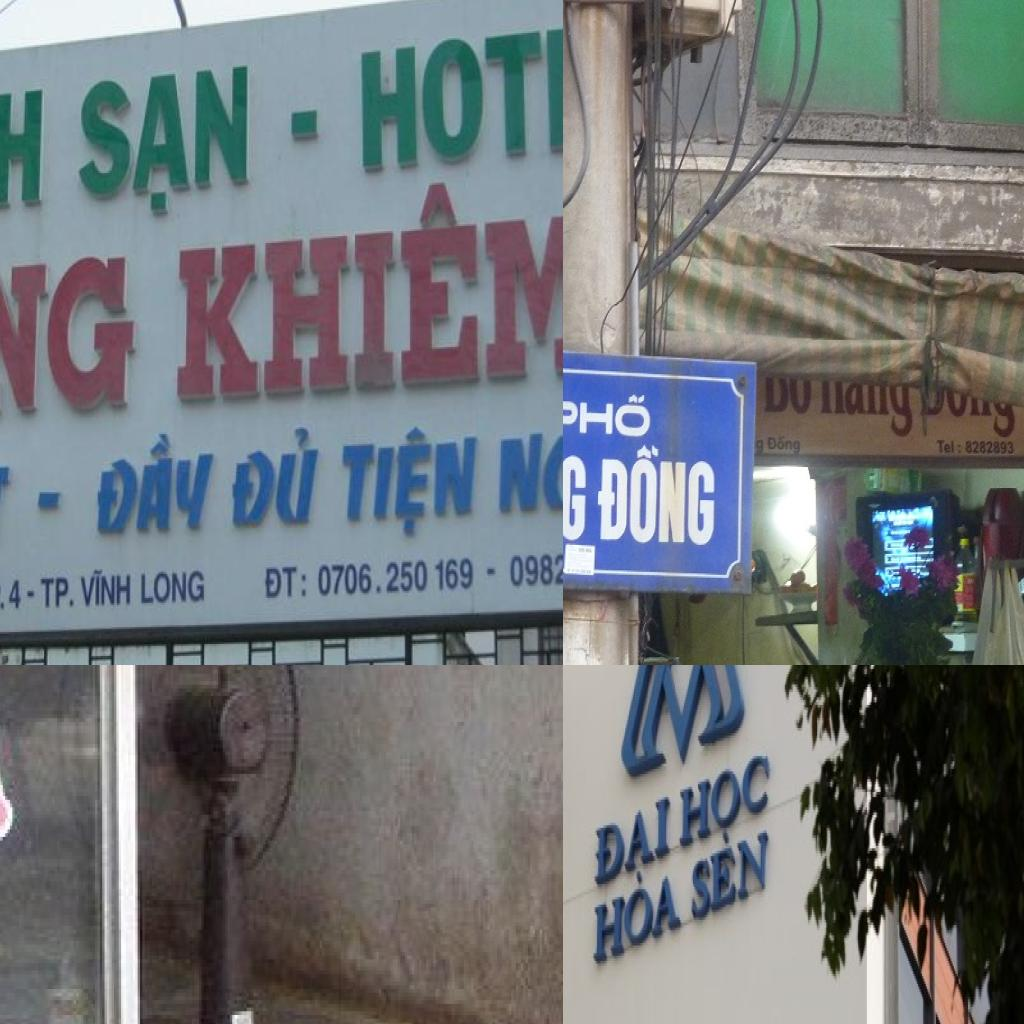text: (173, 164, 563, 406), (0, 210, 144, 444), (360, 12, 563, 173), (75, 60, 254, 226), (336, 422, 484, 543), (92, 429, 224, 540), (594, 443, 722, 557), (228, 417, 328, 537), (676, 748, 775, 866), (593, 790, 674, 904), (590, 874, 684, 971), (316, 554, 476, 602), (497, 424, 563, 523), (563, 378, 665, 440), (139, 567, 209, 610), (76, 566, 135, 612), (563, 444, 589, 546), (263, 562, 309, 605), (39, 574, 76, 612), (765, 433, 806, 455), (7, 577, 23, 615), (936, 437, 964, 457), (0, 575, 8, 615), (756, 434, 766, 457)
